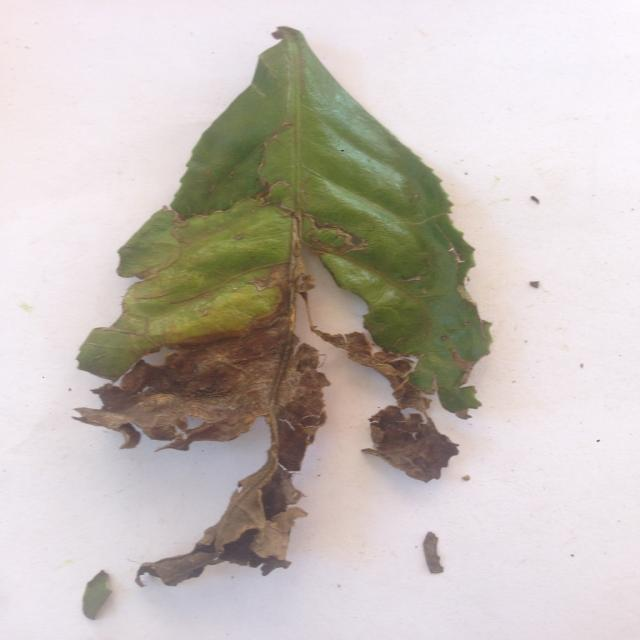Brown Blight: (84, 24, 523, 598)
